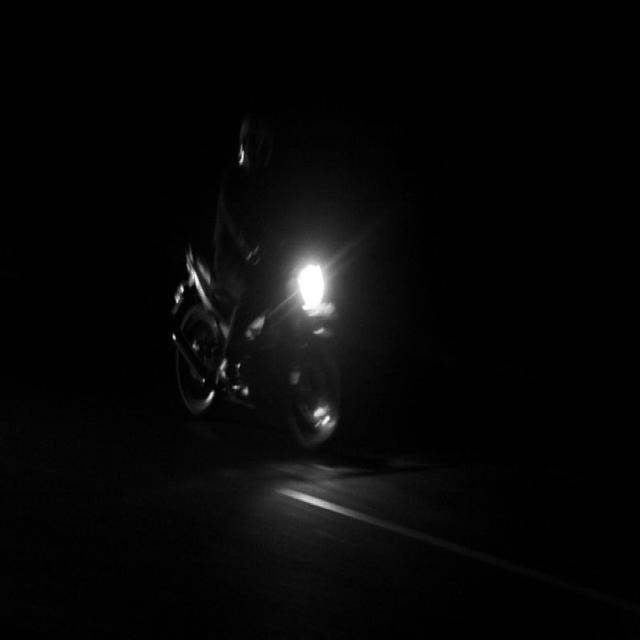Motorbike: (147, 226, 413, 515)
